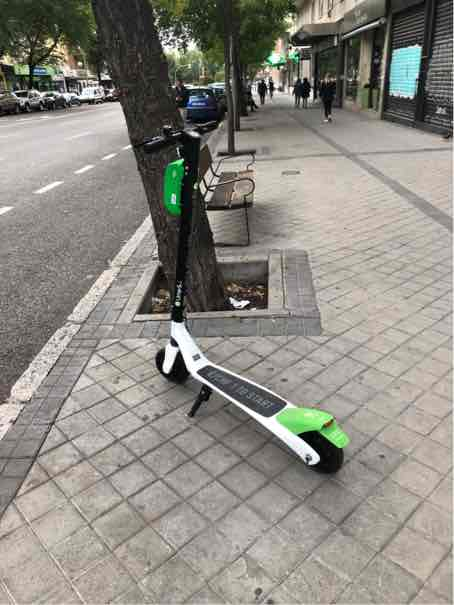scooter: (125, 105, 352, 475)
